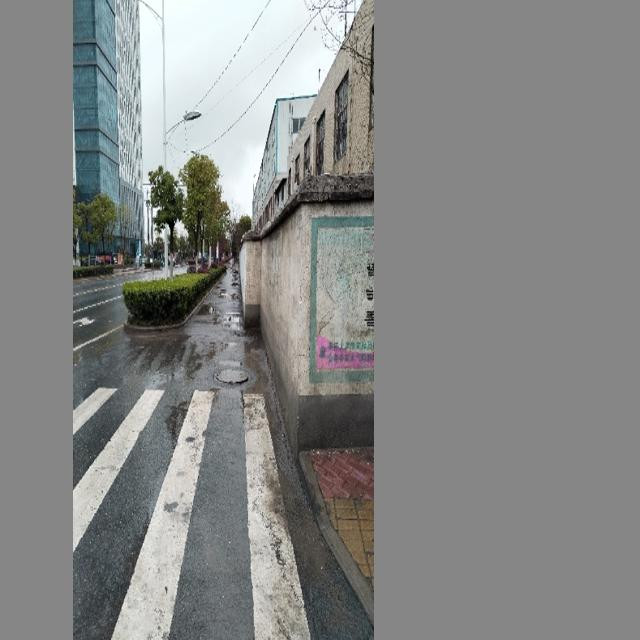good: (198, 335, 263, 414)
